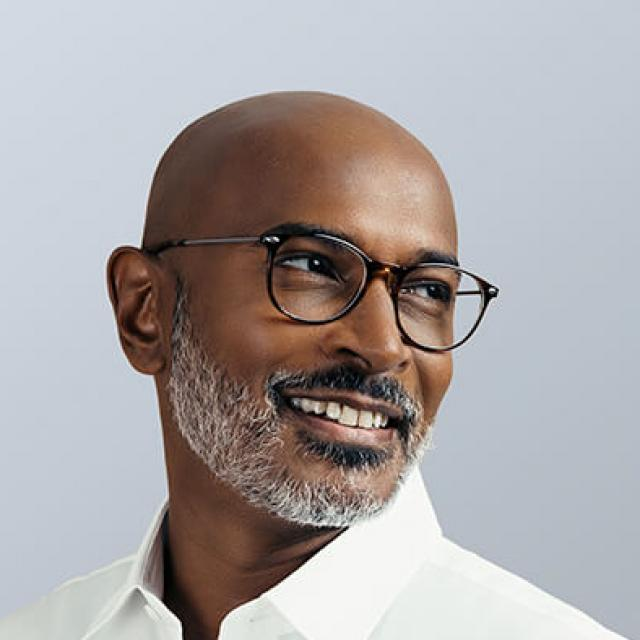Glasses: (158, 222, 504, 356)
